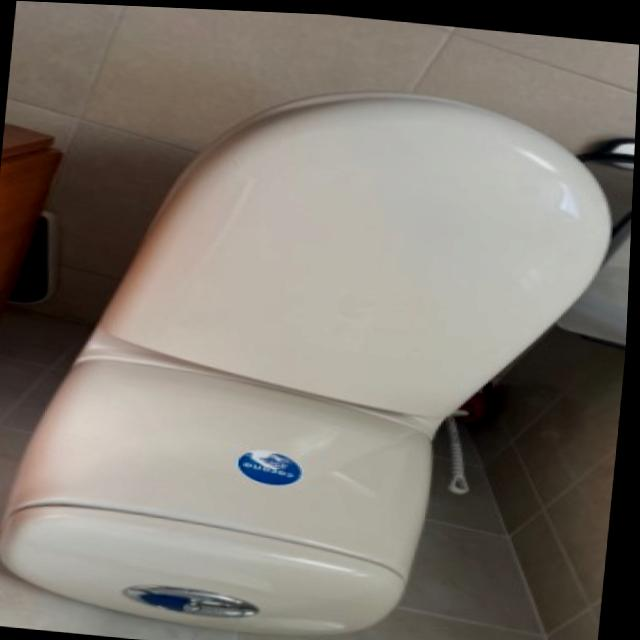toilet: (0, 57, 628, 640)
